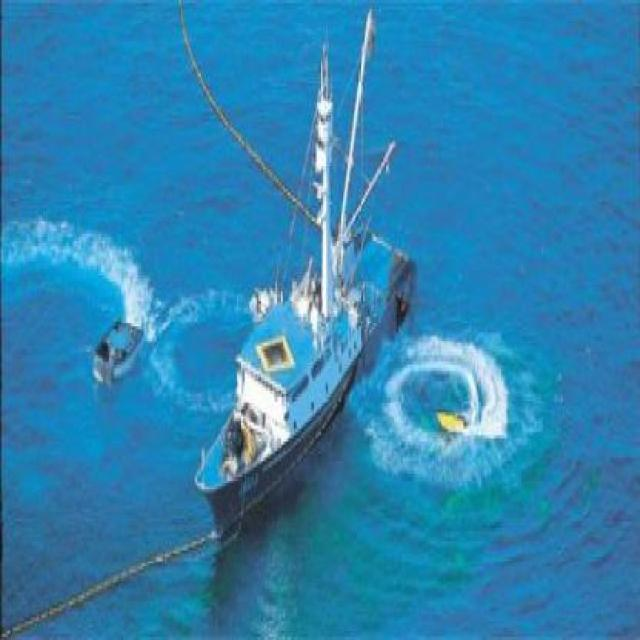fish-b: (188, 1, 425, 564)
